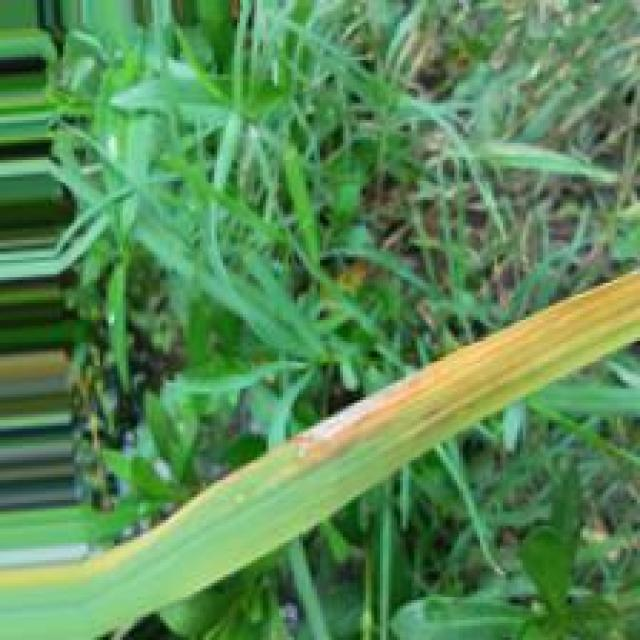Rice Tungro: (258, 374, 425, 489)
